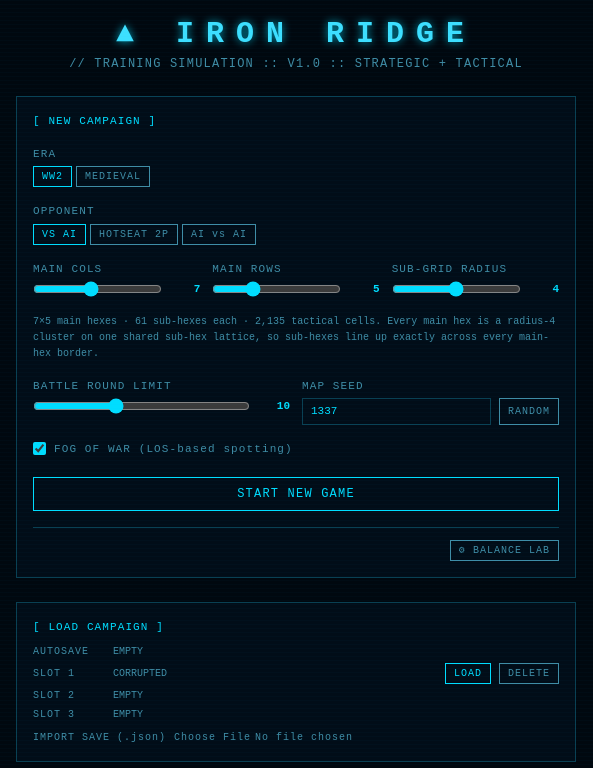
Test case: corrupt and legacy saves › a corrupt slot is rejected with a message and removed
The image size is (593, 768).
expect the text "CORRUPTED" is shown: met, box left=113, top=668, right=167, bottom=678
Click the button with aria-label "load slot 1": (468, 673) left=445, top=662, right=491, bottom=684
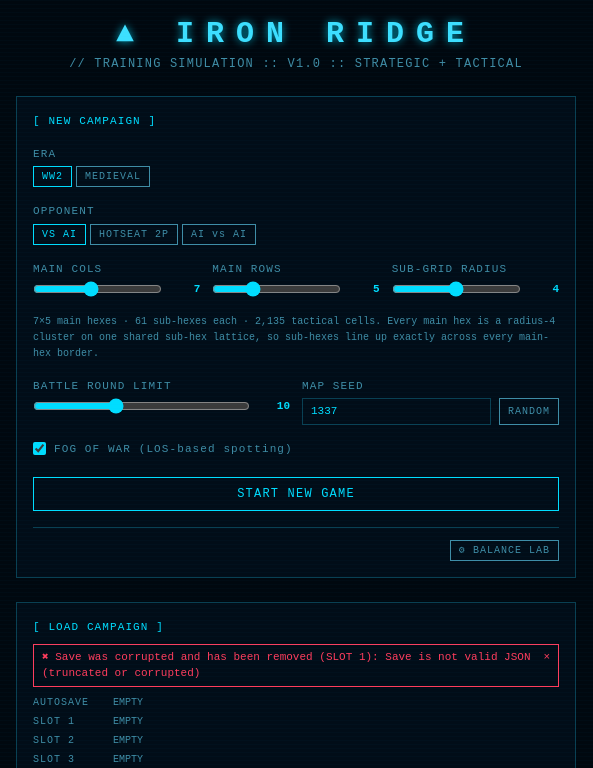
expect the message shows "Save was corrupted and has been removed": met, box left=42, top=650, right=530, bottom=679
Click the button named "dismiss load error": (547, 657) left=543, top=648, right=550, bottom=665
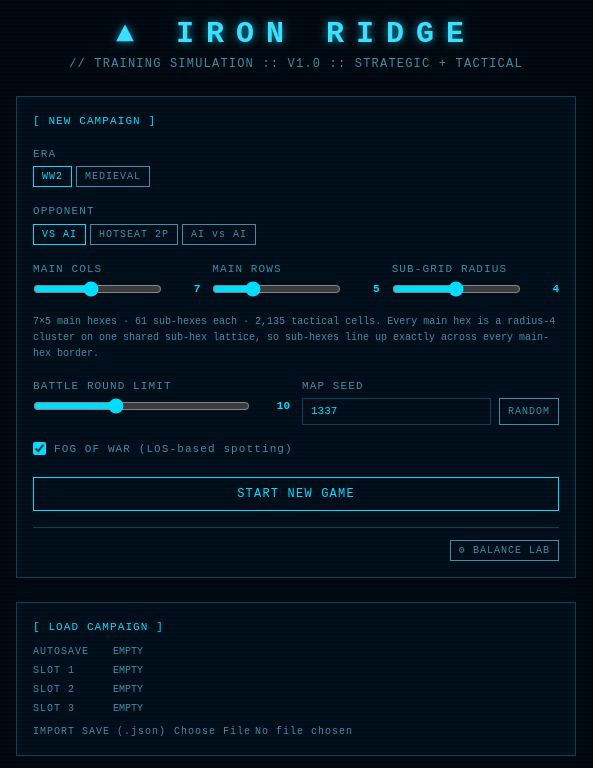
expect the message is gone: met
